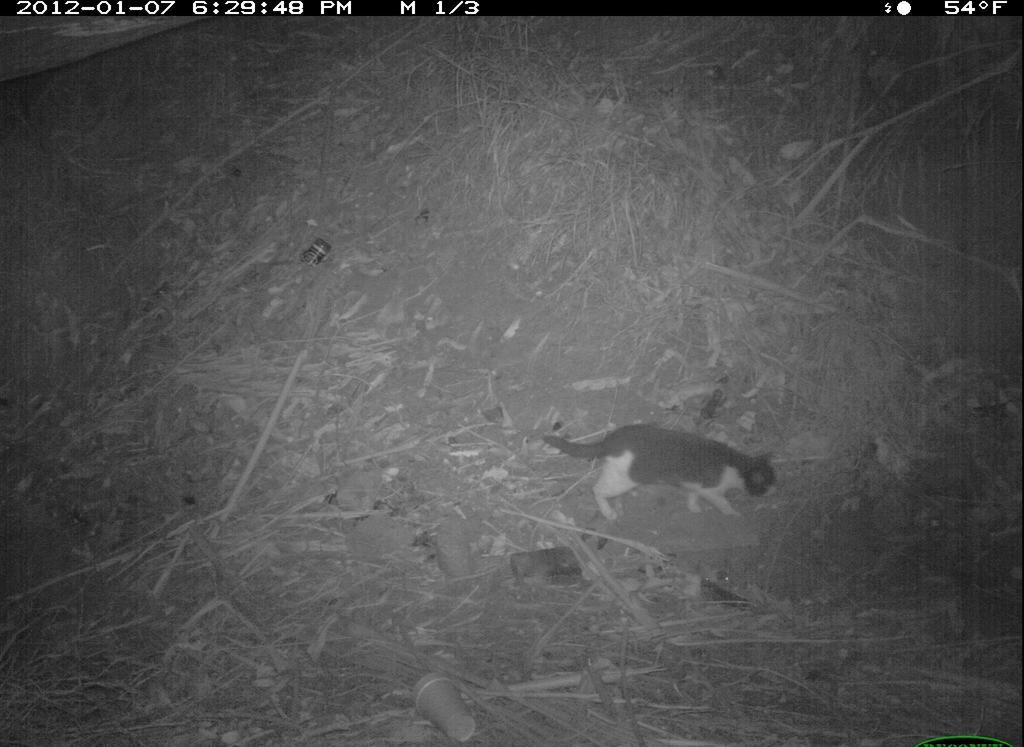cat: (536, 423, 786, 538)
